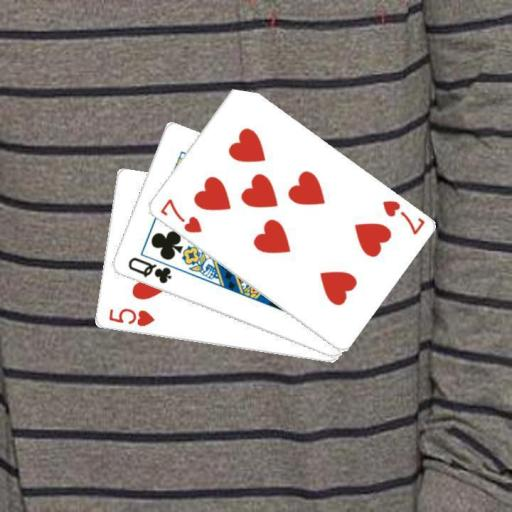card-corner: (378, 197, 427, 237), (156, 196, 204, 234), (124, 254, 173, 285), (105, 305, 156, 329)
